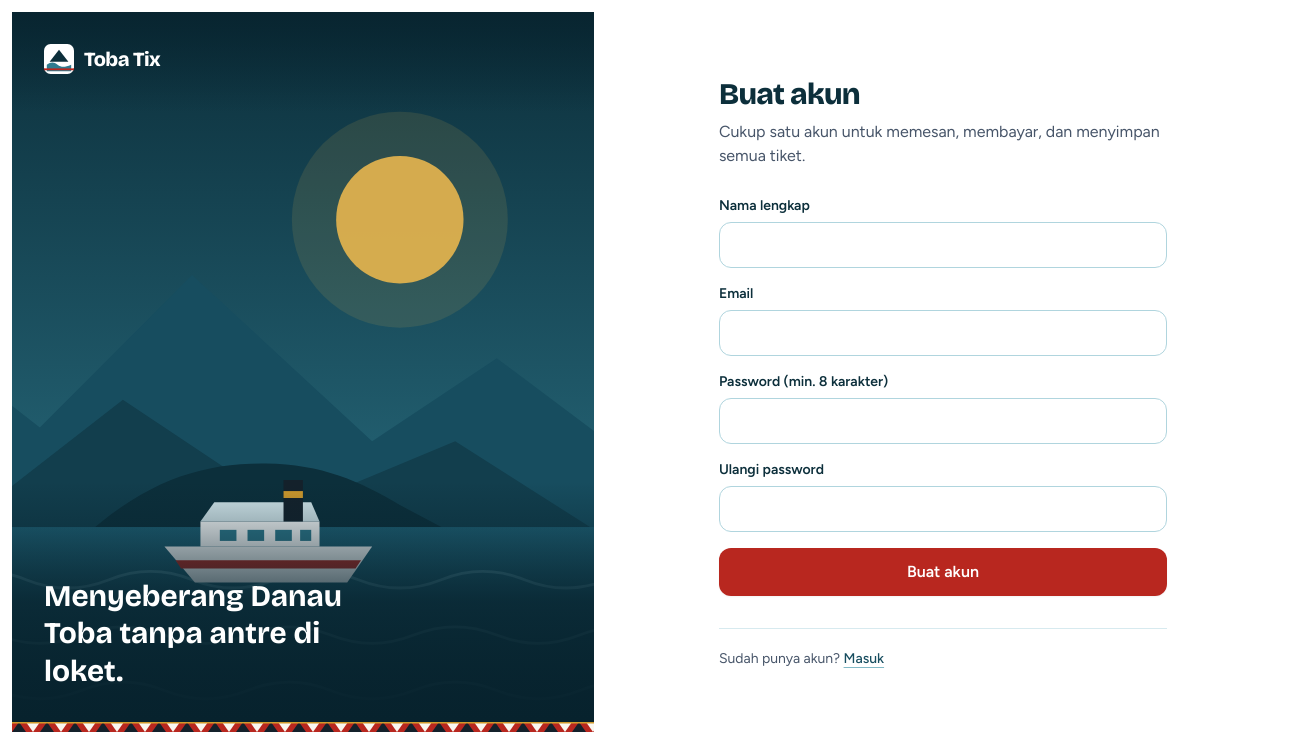
Test case: RegisterPage › konfirmasi password harus sama
This screenshot has width=1292, height=732.
Type "Budi Santoso" into the field with id "name" at (943, 244), box [719,222,1167,268]
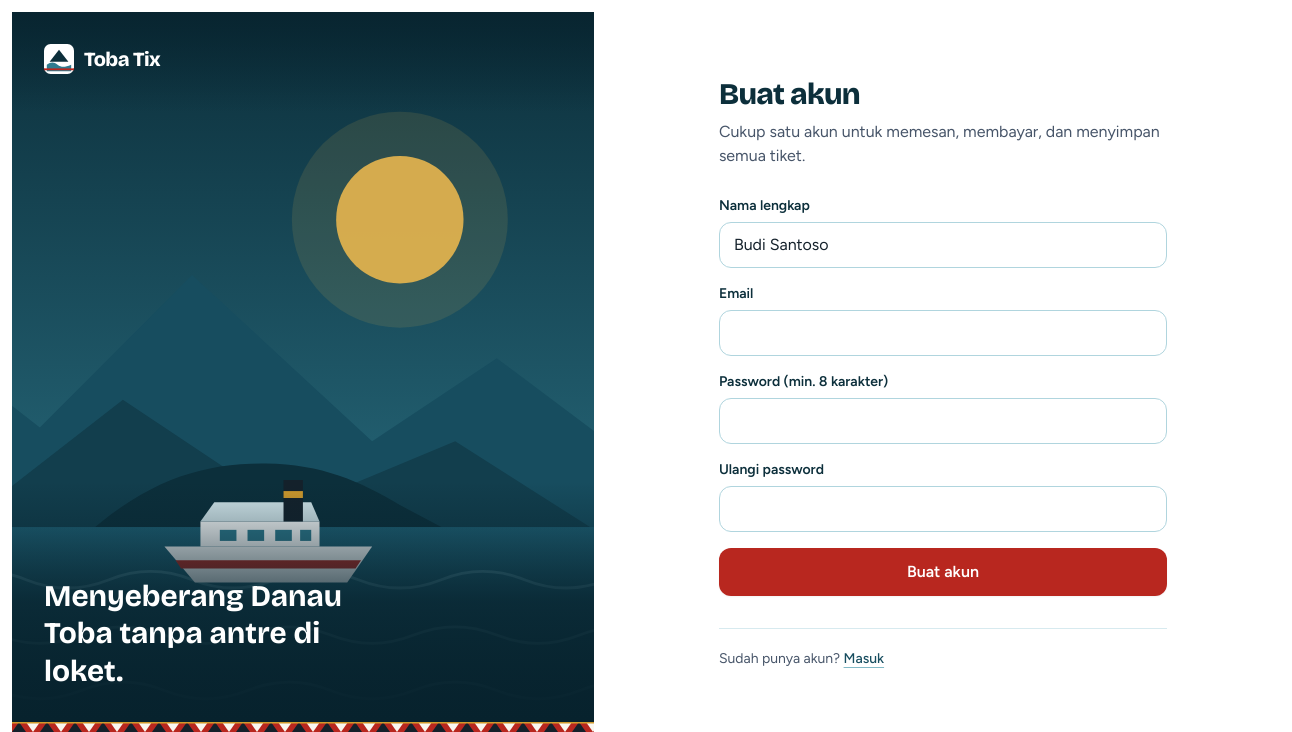
Type "budi@test.com" into the field with id "email" at (943, 332), box [719,310,1167,356]
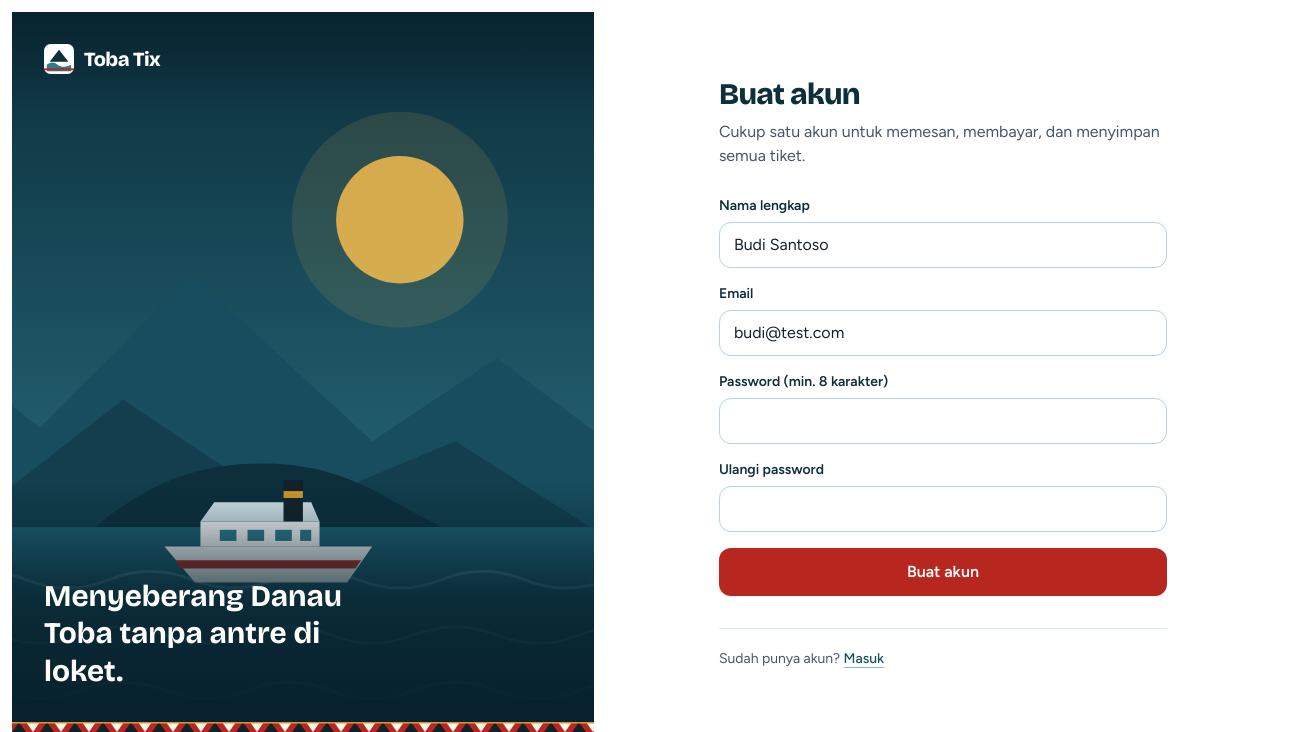
Type "password123" into the password field labelled "Password (min. 8 karakter)" at (943, 420), box [719,398,1167,444]
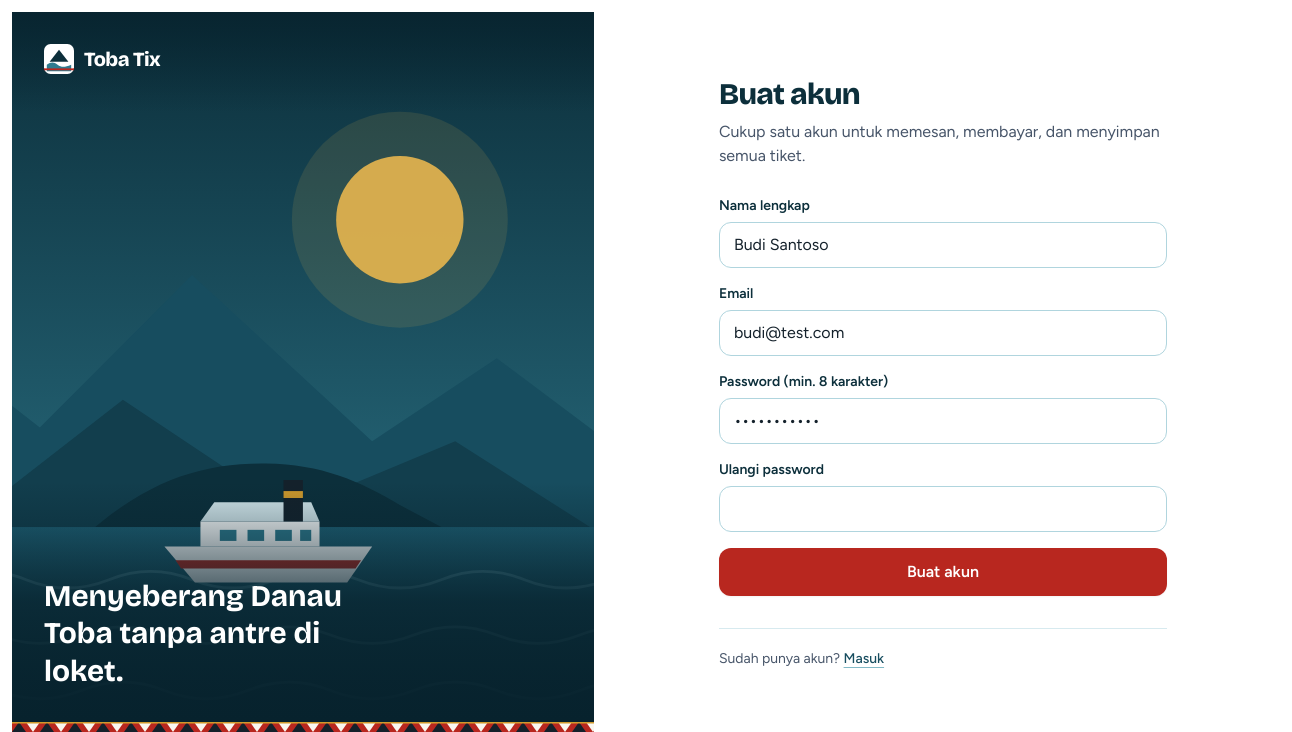
Type "password999" into the password field with id "confirm" at (943, 508), box [719,486,1167,532]
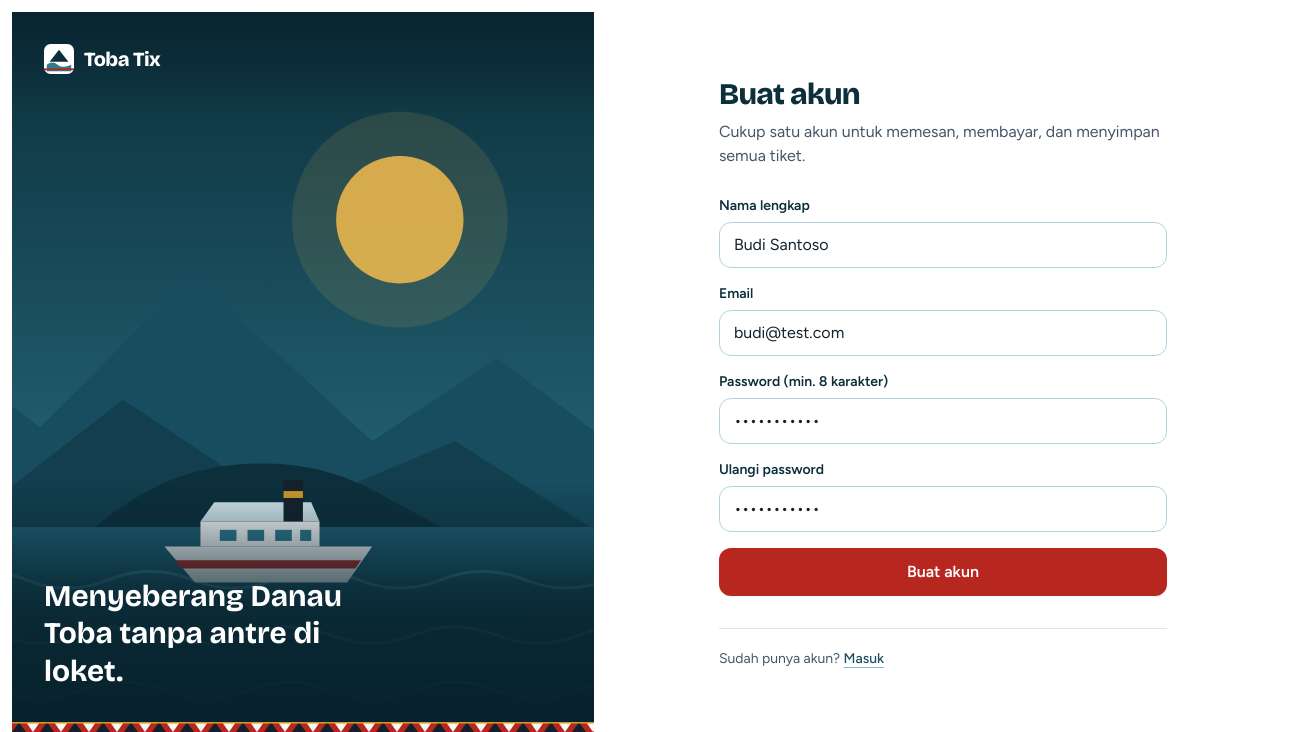
Submit the form, box [719,196,1167,596]
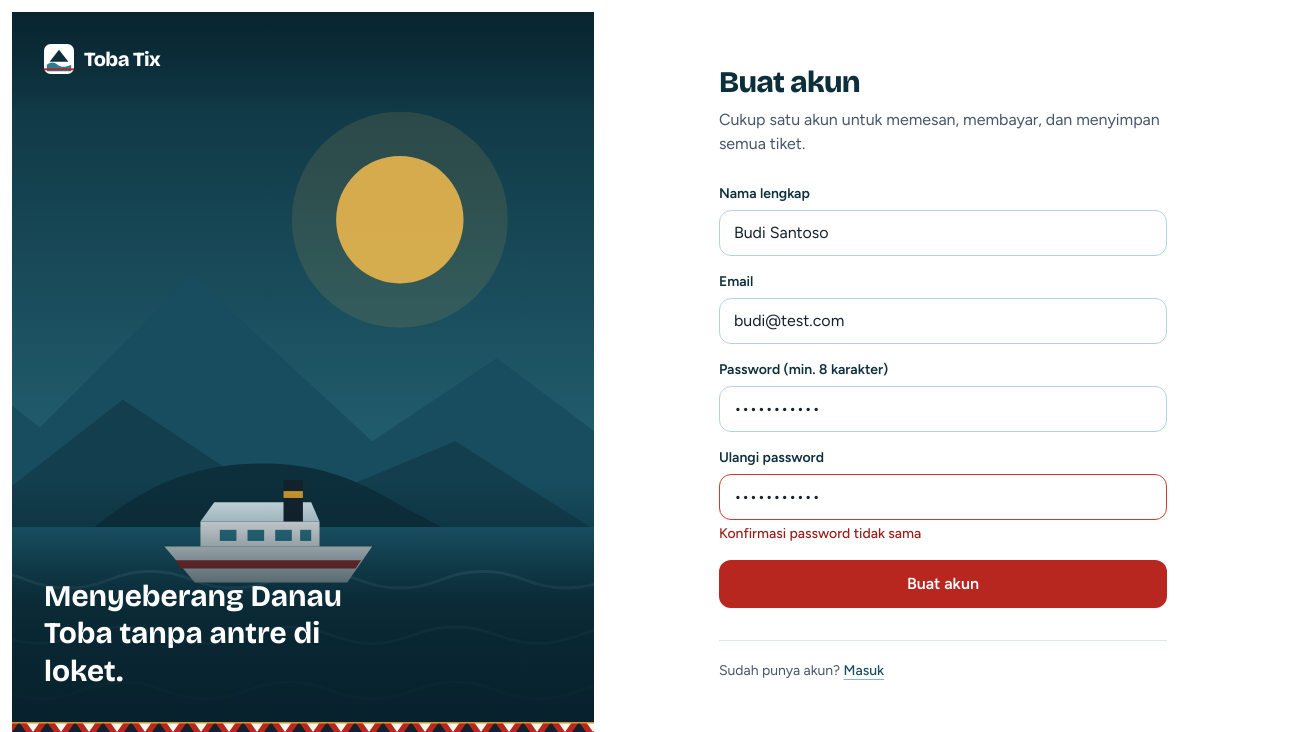
Result: the text "Konfirmasi password tidak sama" is shown at [719,524,921,542]
